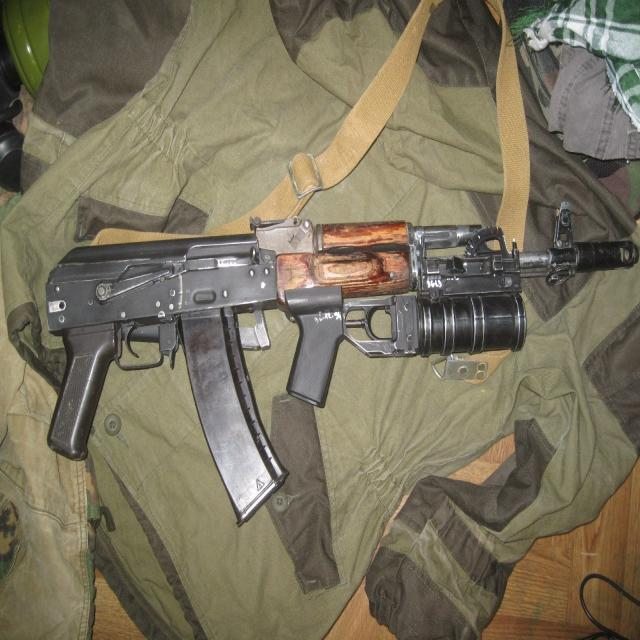firearm: (43, 198, 640, 528)
rocket: (283, 284, 527, 410)
